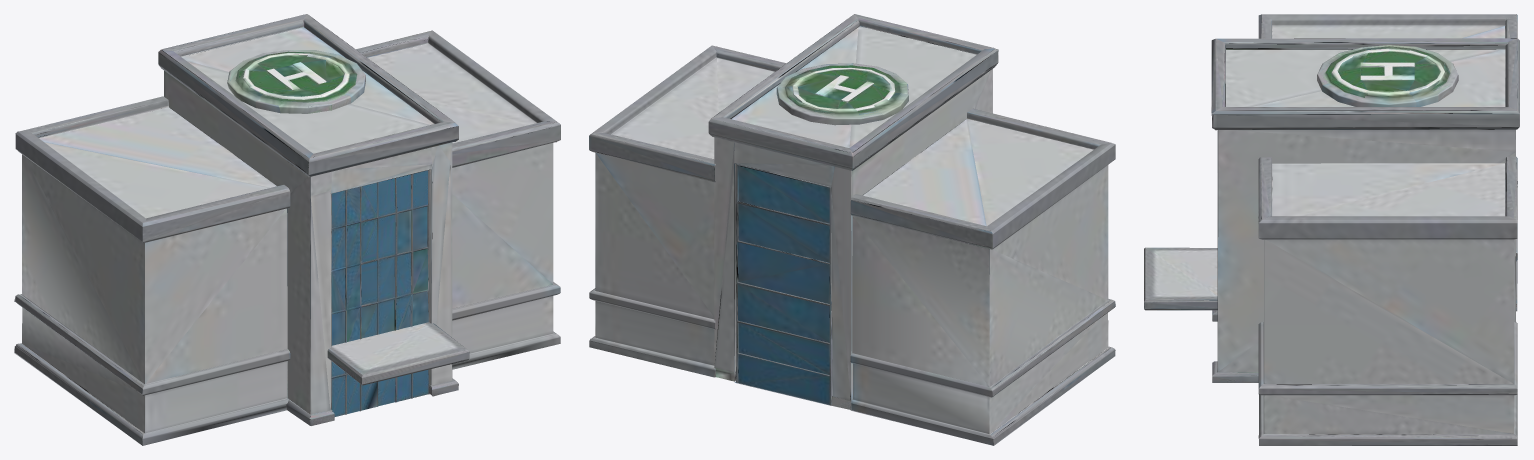
Rendered from 30-hospital.glb.
3 renders of one model, left to right at view 1: azimuth 30°, elevation 25°; view 2: azimuth 150°, elevation 25°; view 3: azimuth 270°, elevation 25°, orthographic. The views are drawn at different scales.
Visible parts, largest first — view 1: geometry_0; view 2: geometry_0; view 3: geometry_0.
Boxes of the visible parts, box(x1,y1,x2,y2) form: geometry_0: box(14, 14, 560, 445); geometry_0: box(589, 14, 1115, 445); geometry_0: box(1144, 14, 1519, 445).
Bounding box in the file's own units: 0.9526 × 0.5884 × 0.7261.
Materials: 1 (1 with a texture image).
